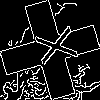X: (25, 25, 79, 70)
